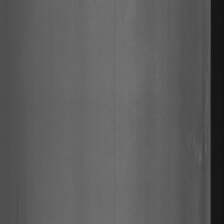silk_spot: (197, 10, 208, 185)
